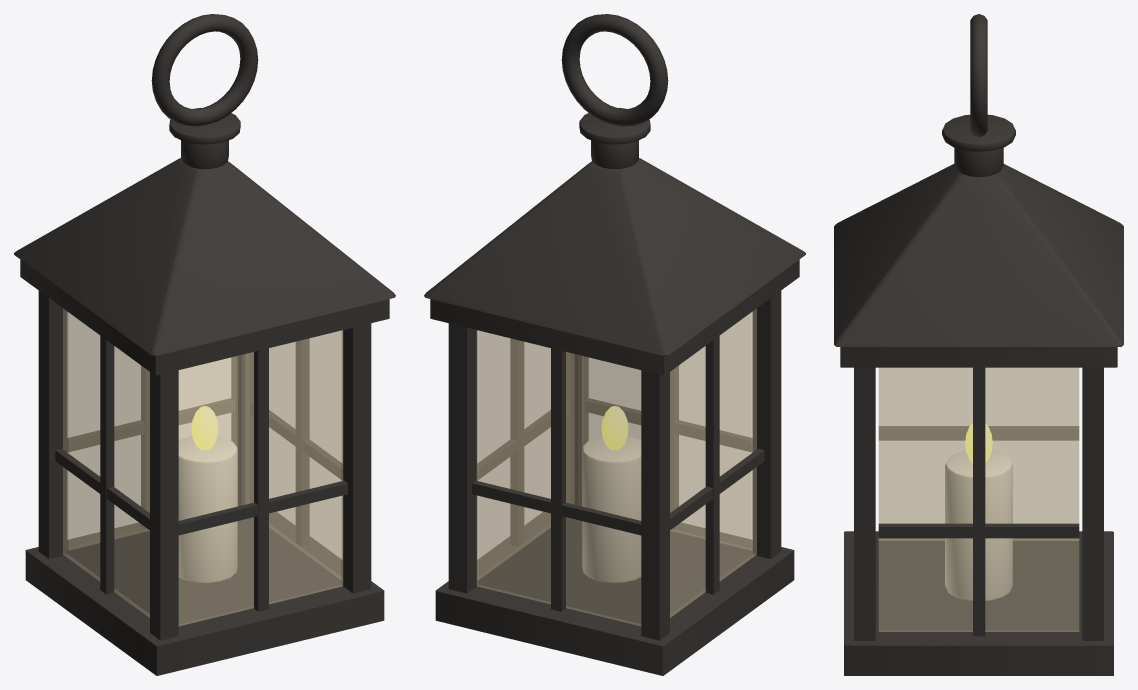
The model's file is iron-lantern_final.glb.
The picture shows the model from 3 angles, left to right: view 1: azimuth 30°, elevation 25°; view 2: azimuth 150°, elevation 25°; view 3: azimuth 270°, elevation 25°; orthographic projection. The views are drawn at different scales.
Parts seen in each view (by area): view 1: SM_IronLantern_Glass, SM_IronLantern_Roof, SM_IronLantern_Base, SM_IronLantern_Posts, SM_IronLantern_Bars, SM_IronLantern_Candle, SM_IronLantern_TopFrame, SM_IronLantern_Ring, SM_IronLantern_ChimneyCap, SM_IronLantern_Chimney, SM_IronLantern_Flame; view 2: SM_IronLantern_Glass, SM_IronLantern_Roof, SM_IronLantern_Base, SM_IronLantern_Posts, SM_IronLantern_Bars, SM_IronLantern_Candle, SM_IronLantern_TopFrame, SM_IronLantern_Ring, SM_IronLantern_ChimneyCap, SM_IronLantern_Chimney, SM_IronLantern_Flame; view 3: SM_IronLantern_Glass, SM_IronLantern_Roof, SM_IronLantern_Base, SM_IronLantern_Posts, SM_IronLantern_Bars, SM_IronLantern_Candle, SM_IronLantern_TopFrame, SM_IronLantern_Ring, SM_IronLantern_ChimneyCap, SM_IronLantern_Chimney, SM_IronLantern_Flame.
Part boxes in pixels (x1,y1,x2,y2): SM_IronLantern_Glass: [63, 308, 342, 625]; SM_IronLantern_Roof: [14, 158, 395, 356]; SM_IronLantern_Base: [25, 512, 384, 675]; SM_IronLantern_Posts: [38, 291, 371, 640]; SM_IronLantern_Bars: [55, 336, 347, 611]; SM_IronLantern_Candle: [178, 436, 237, 582]; SM_IronLantern_TopFrame: [20, 259, 389, 375]; SM_IronLantern_Ring: [151, 14, 258, 126]; SM_IronLantern_ChimneyCap: [169, 107, 240, 144]; SM_IronLantern_Chimney: [181, 140, 228, 168]; SM_IronLantern_Flame: [191, 406, 218, 450]; SM_IronLantern_Glass: [477, 308, 756, 625]; SM_IronLantern_Roof: [424, 158, 805, 356]; SM_IronLantern_Base: [435, 512, 794, 675]; SM_IronLantern_Posts: [448, 291, 781, 640]; SM_IronLantern_Bars: [472, 336, 764, 611]; SM_IronLantern_Candle: [582, 436, 641, 582]; SM_IronLantern_TopFrame: [430, 259, 799, 375]; SM_IronLantern_Ring: [561, 14, 668, 126]; SM_IronLantern_ChimneyCap: [579, 107, 650, 144]; SM_IronLantern_Chimney: [591, 140, 638, 168]; SM_IronLantern_Flame: [601, 406, 628, 450]; SM_IronLantern_Glass: [878, 367, 1079, 631]; SM_IronLantern_Roof: [834, 164, 1123, 346]; SM_IronLantern_Base: [844, 531, 1113, 675]; SM_IronLantern_Posts: [854, 367, 1103, 640]; SM_IronLantern_Bars: [878, 367, 1079, 636]; SM_IronLantern_Candle: [945, 451, 1012, 600]; SM_IronLantern_TopFrame: [840, 347, 1117, 367]; SM_IronLantern_Ring: [970, 14, 987, 136]; SM_IronLantern_ChimneyCap: [942, 114, 1015, 151]; SM_IronLantern_Chimney: [954, 147, 1003, 176]; SM_IronLantern_Flame: [965, 423, 992, 463].
Bounding box in the file's own units: 0.1879 × 0.429 × 0.1879.
